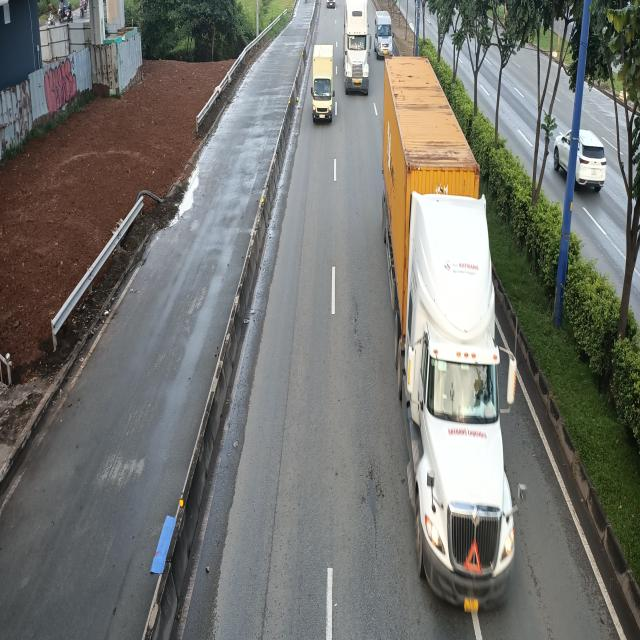container: (382, 58, 517, 621), (343, 1, 371, 96)
truck: (310, 44, 336, 124)
van: (374, 11, 396, 59)
